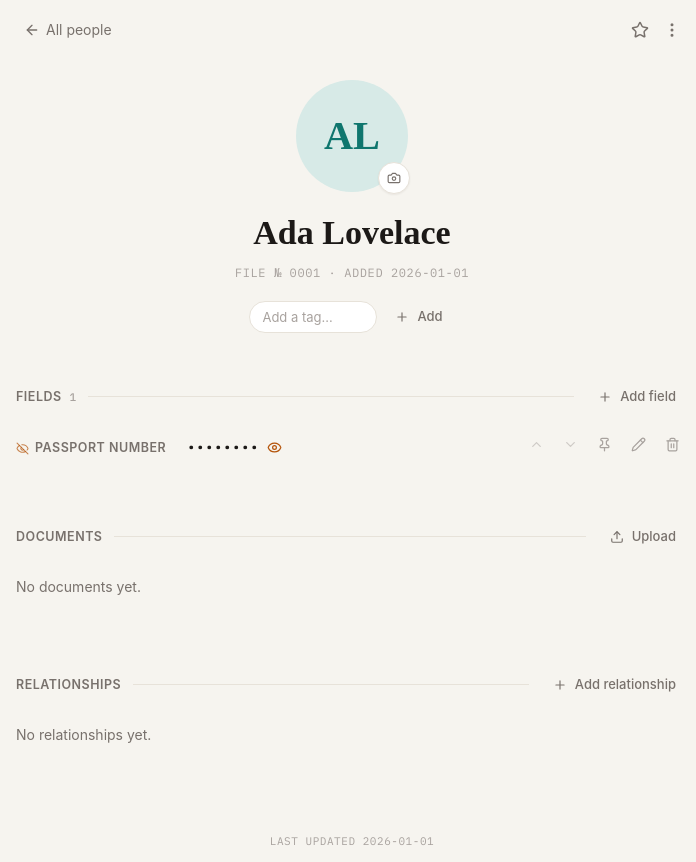
Test: PersonPage — sensitive fields (SEC-7 regression guard) › masks a sensitive field value until the reveal control is clicked
Expected: the heading "Ada Lovelace" is shown, 253,212 -> 451,254
Expected: the text "Passport number" is shown, 16,440 -> 179,456
Click the button named "Reveal value": (274, 447) 267,440 -> 282,455
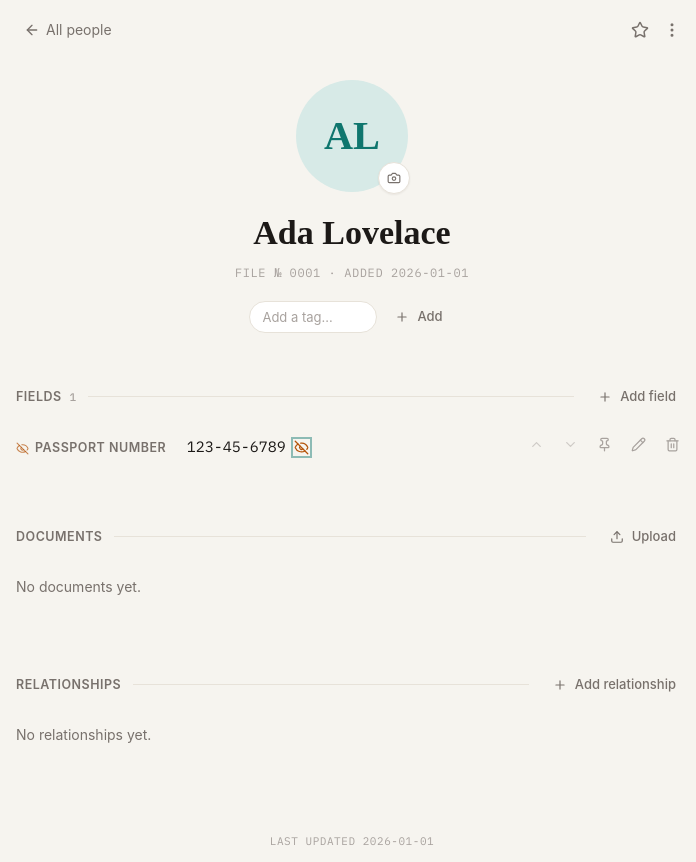
Expected: the text "123-45-6789" is shown, 187,436 -> 309,458
Expected: the text "••••••••" is gone
Expected: the button named "Hide value" is shown, 294,440 -> 309,455
